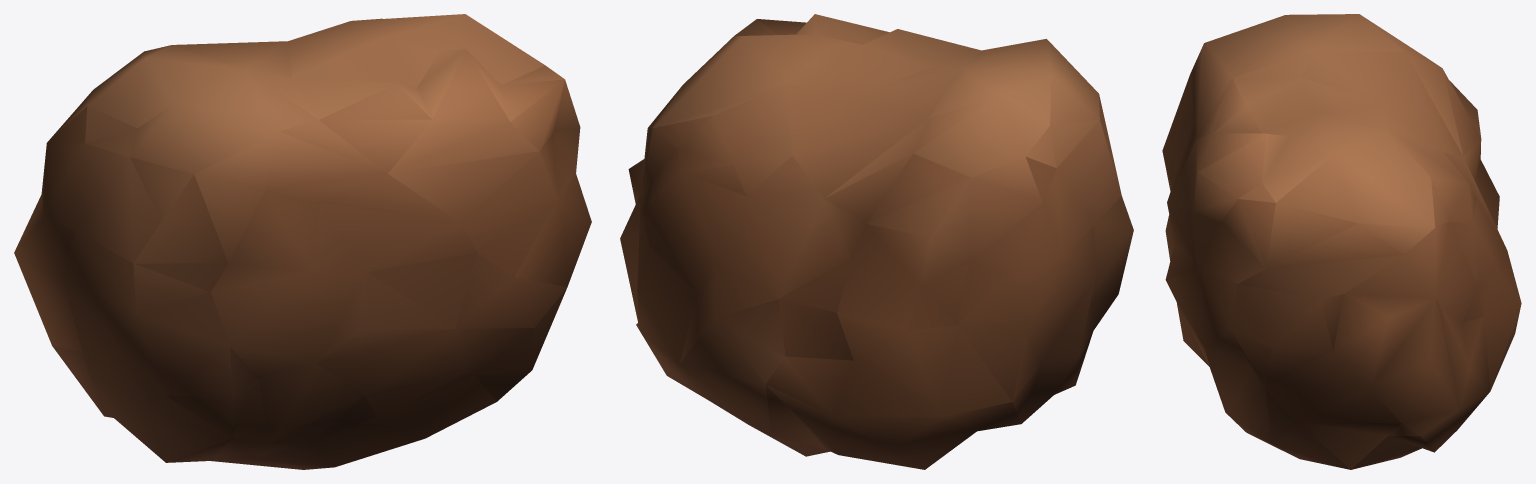
File: canopy_bark_chip_lod2.glb
3 renders of one model, left to right at view 1: azimuth 30°, elevation 25°; view 2: azimuth 150°, elevation 25°; view 3: azimuth 270°, elevation 25°, orthographic. The views are drawn at different scales.
Parts seen in each view (by area): view 1: canopy_bark_chip.001; view 2: canopy_bark_chip.001; view 3: canopy_bark_chip.001.
Boxes of the visible parts, x1,y1,x2,y2 form: canopy_bark_chip.001: (14, 14, 591, 469); canopy_bark_chip.001: (620, 14, 1133, 469); canopy_bark_chip.001: (1162, 14, 1521, 469).
Size of the model in its own units: 4.05 by 3.41 by 3.04.
